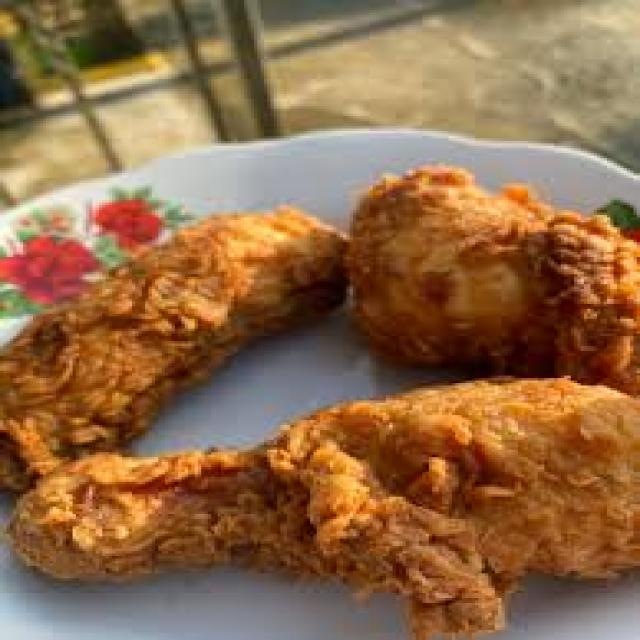Frango: (6, 380, 640, 635), (0, 212, 336, 479), (343, 163, 640, 391)
